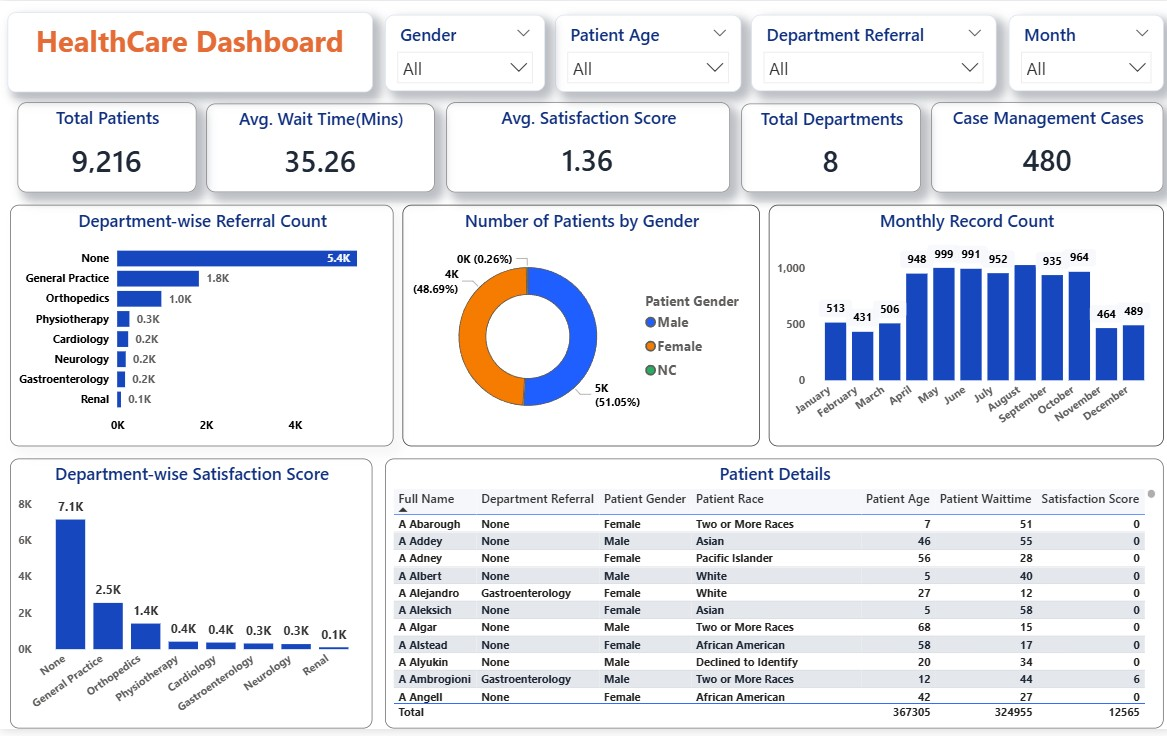

The page's visual inventory and layout, read from the dashboard file:
{"tool":"powerbi","page":{"name":"Page 1","canvas":[1290,800],"ordinal":0},"visuals":[{"type":"textbox","box":[8.2,12.4,401.2,87.9],"z":0},{"type":"slicer","fields":{"Values":["Hospital ER_Data.Patient Age"]},"box":[610.1,15.1,204.7,85.2],"z":1000},{"type":"slicer","fields":{"Values":["Hospital ER_Data.Department Referral"]},"box":[825.8,15.1,269.3,83.8],"z":2000},{"type":"slicer","fields":{"Values":["Hospital ER_Data.Date.Variation.Date Hierarchy.Month"]},"box":[1108.9,15.1,170.4,83.8],"z":3000},{"type":"cardVisual","title":"Total Patients","fields":{"Data":["Hospital ER_Data.Total Rows"]},"box":[19.2,111.3,196.5,98.9],"z":4000},{"type":"cardVisual","title":"Avg. Wait Time(Mins)","fields":{"Data":["Hospital ER_Data.Average Waiting Time"]},"box":[226.7,112.7,251.5,97.6],"z":5000},{"type":"cardVisual","title":"Avg. Satisfaction Score","fields":{"Data":["Hospital ER_Data.Avg_Patient satisfaction"]},"box":[490.6,111.3,311.9,98.9],"z":6000},{"type":"cardVisual","title":"Total Departments","fields":{"Data":["Hospital ER_Data.Total Departments"]},"box":[814.8,112.7,197.9,97.6],"z":7000},{"type":"cardVisual","title":" Case Management Cases","fields":{"Data":["Hospital ER_Data.Total Case Management"]},"box":[1023.7,111.3,255.6,98.9],"z":8000},{"type":"barChart","title":"Department-wise Referral Count","fields":{"Y":["Hospital ER_Data.Total Rows"],"Category":["Hospital ER_Data.Department Referral"]},"box":[11,224,421.8,265.2],"z":9000},{"type":"donutChart","title":"Number of Patients by Gender","fields":{"Category":["Hospital ER_Data.Patient Gender"],"Y":["Hospital ER_Data.Total Rows"]},"box":[442.5,224,393,265.2],"z":10000},{"type":"lineClusteredColumnComboChart","title":"Monthly Record Count","fields":{"Category":["Hospital ER_Data.Date.Variation.Date Hierarchy.Month"],"Y":["Hospital ER_Data.Total Rows"]},"box":[845.1,224,434.2,265.2],"z":11000},{"type":"columnChart","title":"Department-wise Satisfaction Score","fields":{"Y":["Sum(Hospital ER_Data.Patient Satisfaction Score)"],"Category":["Hospital ER_Data.Department Referral"]},"box":[11,502.9,398.5,296.8],"z":12000},{"type":"tableEx","title":"Patient Details","fields":{"Values":["Hospital ER_Data.Full Name","Hospital ER_Data.Department Referral","Hospital ER_Data.Patient Gender","Hospital ER_Data.Patient Race","Sum(Hospital ER_Data.Patient Age)","Sum(Hospital ER_Data.Patient Waittime)","Sum(Hospital ER_Data.Patient Satisfaction Score)"]},"box":[423.2,502.9,856.1,296.8],"z":13000},{"type":"slicer","title":"Gender","fields":{"Values":["Hospital ER_Data.Patient Gender"]},"box":[423.2,15.1,175.9,83.8],"z":14000}]}

Visuals, with their boxes in screenshot pixels (x1, y1, x2, y2), scaled from the page's 1290x800 canvas onto the 1167x736 screenshot:
textbox: detection(7, 11, 370, 92)
slicer - Hospital ER_Data.Patient Age: detection(552, 14, 737, 92)
slicer - Hospital ER_Data.Department Referral: detection(747, 14, 991, 91)
slicer - Hospital ER_Data.Date.Variation.Date Hierarchy.Month: detection(1003, 14, 1157, 91)
"Total Patients" cardVisual: detection(17, 102, 195, 193)
"Avg. Wait Time(Mins)" cardVisual: detection(205, 104, 433, 193)
"Avg. Satisfaction Score" cardVisual: detection(444, 102, 726, 193)
"Total Departments" cardVisual: detection(737, 104, 916, 193)
" Case Management Cases" cardVisual: detection(926, 102, 1157, 193)
"Department-wise Referral Count" barChart: detection(10, 206, 392, 450)
"Number of Patients by Gender" donutChart: detection(400, 206, 756, 450)
"Monthly Record Count" lineClusteredColumnComboChart: detection(765, 206, 1157, 450)
"Department-wise Satisfaction Score" columnChart: detection(10, 463, 370, 735)
"Patient Details" tableEx: detection(383, 463, 1157, 735)
"Gender" slicer: detection(383, 14, 542, 91)
